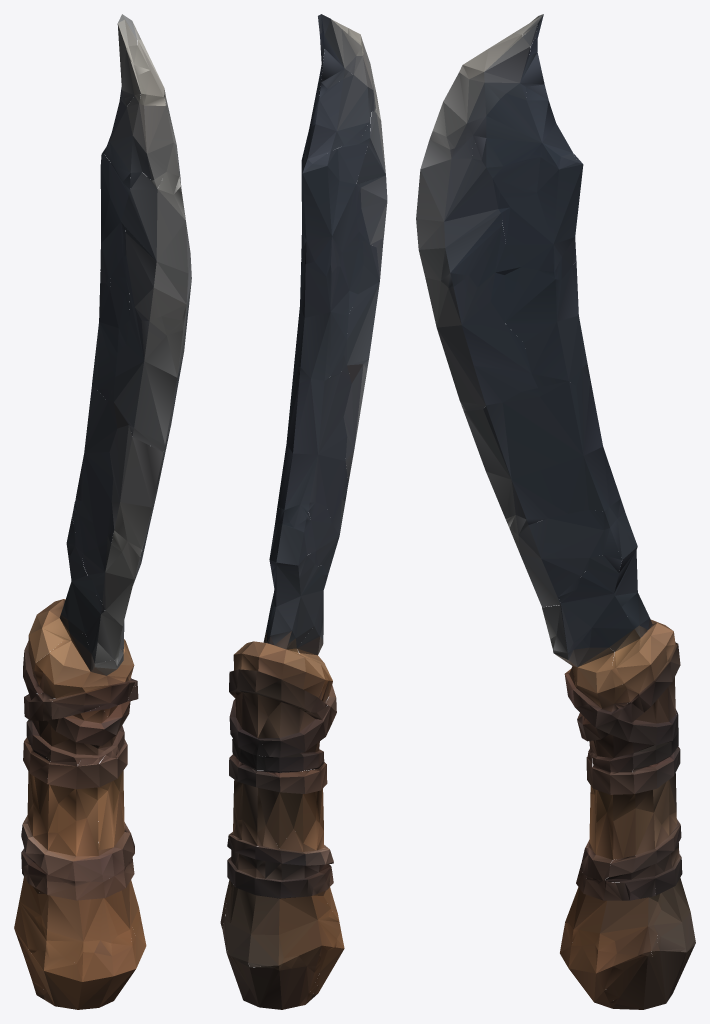
Rendered from machete.glb.
3 renders of one model, left to right at view 1: azimuth 30°, elevation 25°; view 2: azimuth 150°, elevation 25°; view 3: azimuth 270°, elevation 25°, orthographic. The views are drawn at different scales.
Visible parts, largest first — view 1: 0_machete; view 2: 0_machete; view 3: 0_machete.
Boxes of the visible parts, bbox=[...] form: 0_machete: bbox=[14, 14, 191, 1009]; 0_machete: bbox=[220, 14, 387, 1009]; 0_machete: bbox=[416, 14, 695, 1009].
Bounding box in the file's own units: 0.0714 × 0.6401 × 0.1657.
